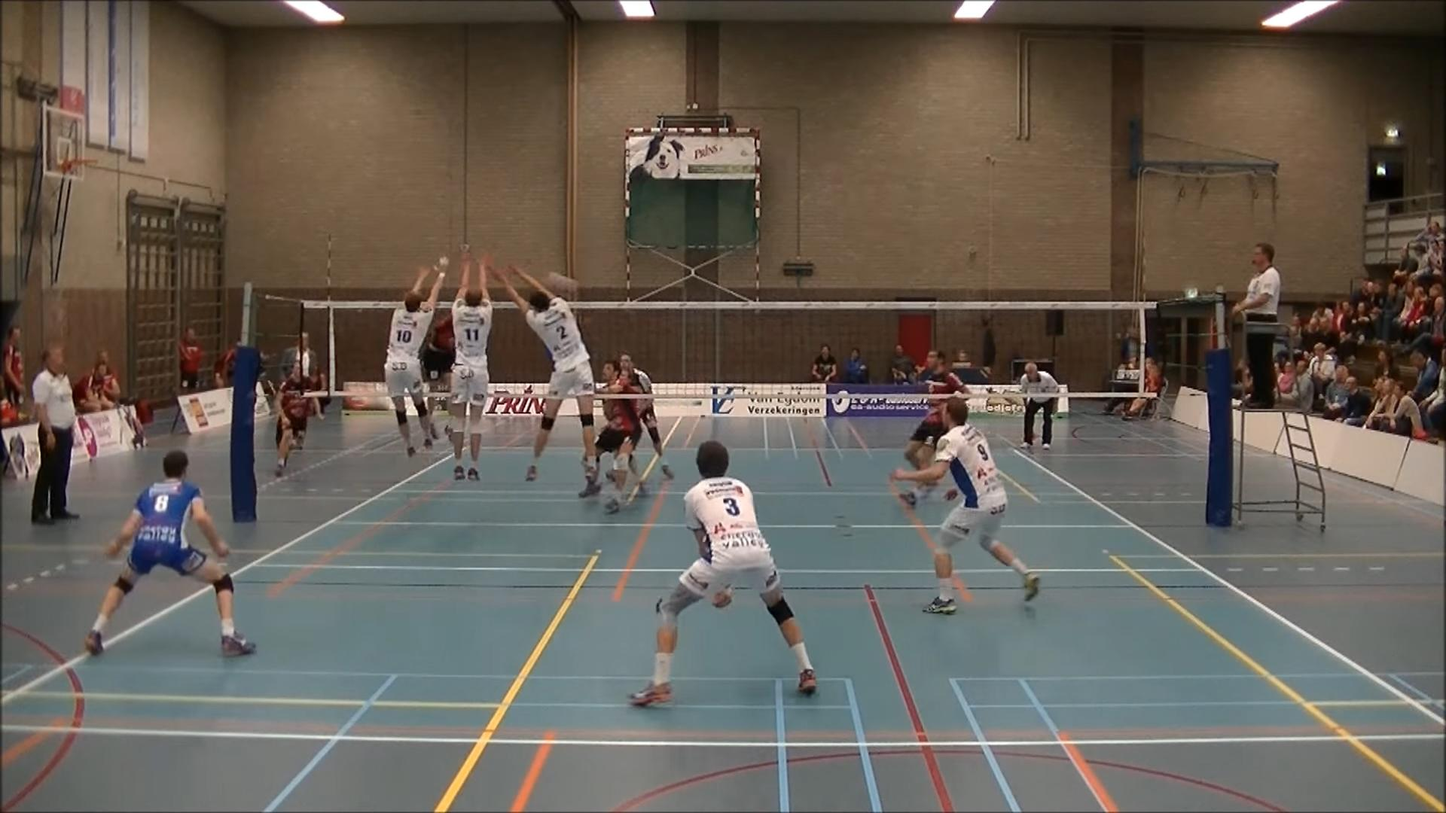Attack: (415, 295, 458, 415)
Block: (485, 259, 598, 499), (377, 258, 457, 407), (447, 245, 496, 482)
Player: (629, 440, 816, 705), (85, 450, 255, 656), (891, 397, 1039, 614), (905, 350, 968, 470), (596, 397, 641, 513), (639, 399, 673, 479)
